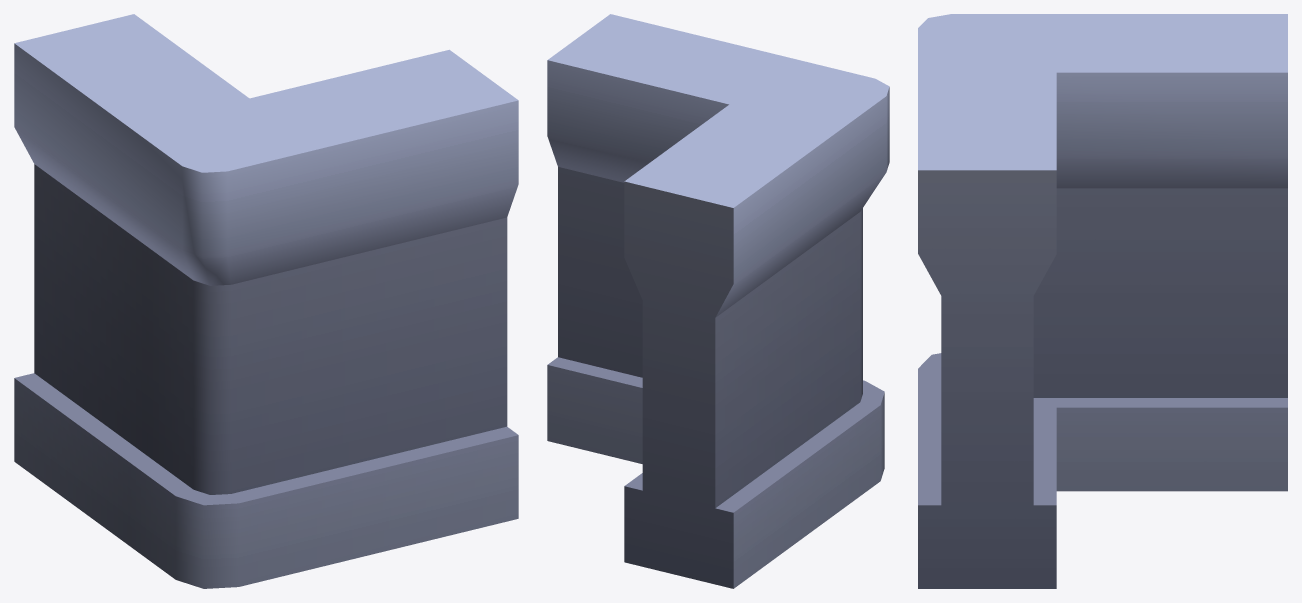
Rendered from wall-corner.glb.
The picture shows the model from 3 angles, left to right: view 1: azimuth 30°, elevation 25°; view 2: azimuth 150°, elevation 25°; view 3: azimuth 270°, elevation 25°; orthographic projection. The views are drawn at different scales.
Visible parts, largest first — view 1: wall-corner; view 2: wall-corner; view 3: wall-corner.
Boxes of the visible parts, bbox=[...] form: wall-corner: bbox=[14, 14, 518, 588]; wall-corner: bbox=[547, 14, 889, 588]; wall-corner: bbox=[918, 14, 1287, 588].
Bounding box in the file's own units: 0.8 × 1 × 0.8.
1 material, 1 textured.
